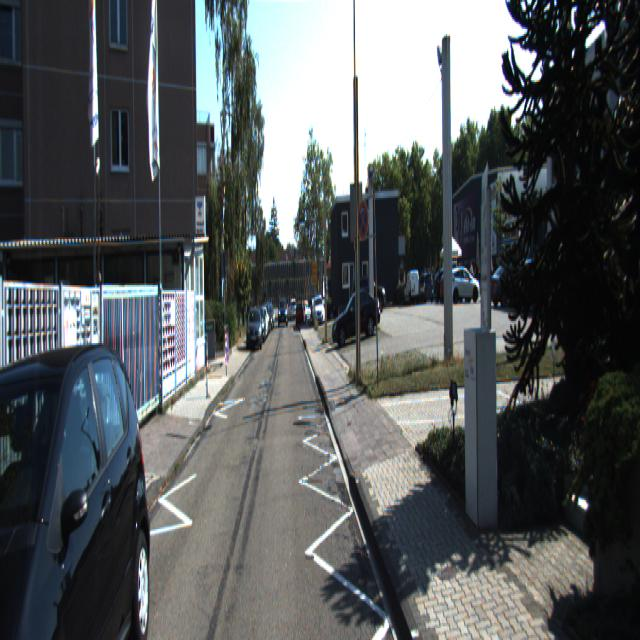Car: (0, 330, 152, 638), (329, 288, 382, 350), (444, 265, 480, 305), (246, 306, 264, 352), (403, 268, 420, 304)
